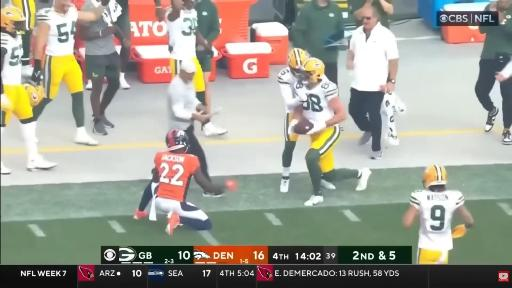Helmet: (0, 6, 25, 33), (288, 48, 309, 76), (423, 165, 447, 187), (303, 58, 325, 82), (166, 130, 189, 151), (24, 84, 44, 106)
Jersey: (410, 190, 464, 251), (154, 151, 199, 202), (36, 5, 78, 56), (295, 76, 338, 122), (167, 9, 197, 59), (0, 32, 23, 85), (278, 68, 299, 113)
Player: (289, 58, 371, 206), (31, 0, 103, 145), (0, 6, 56, 170), (152, 130, 236, 234), (403, 165, 473, 264), (167, 0, 212, 100), (278, 48, 309, 192), (10, 0, 35, 77)
